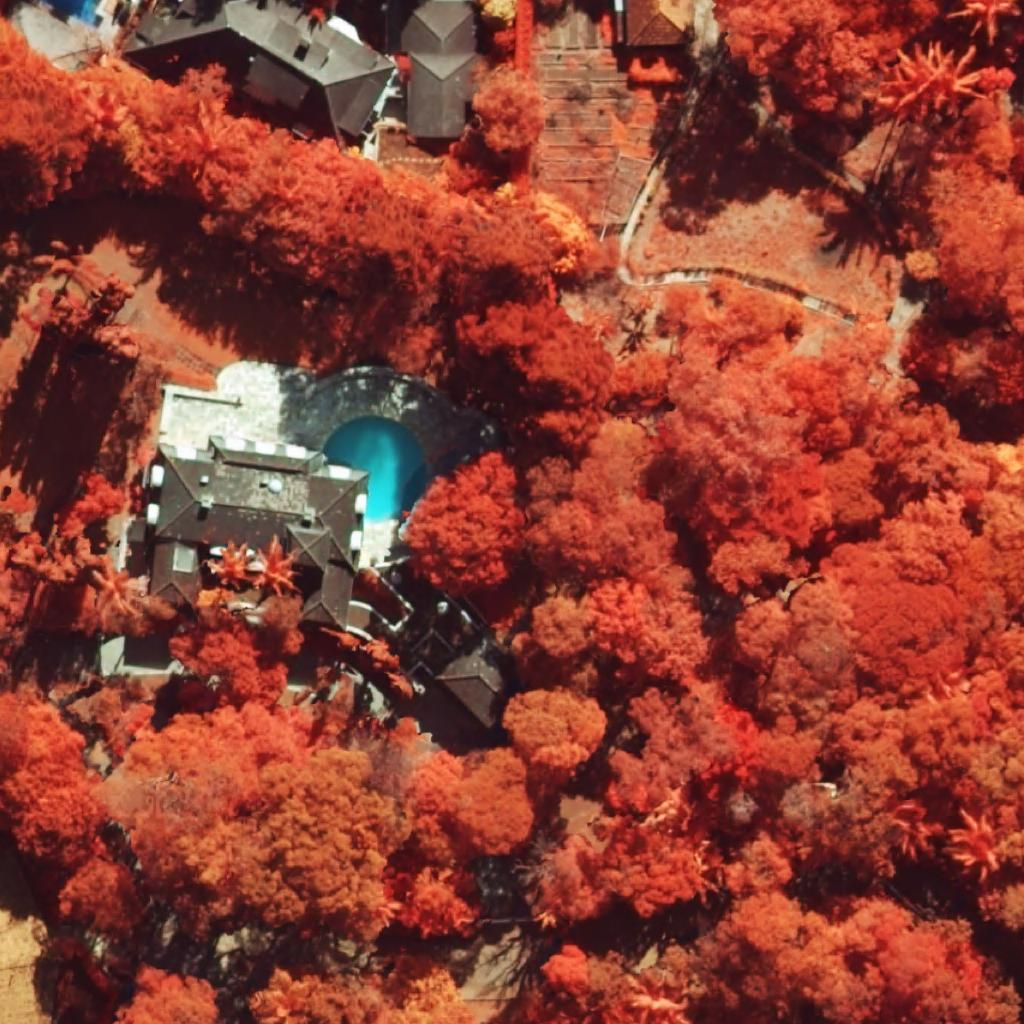pool: (322, 416, 426, 523), (41, 0, 103, 29)
